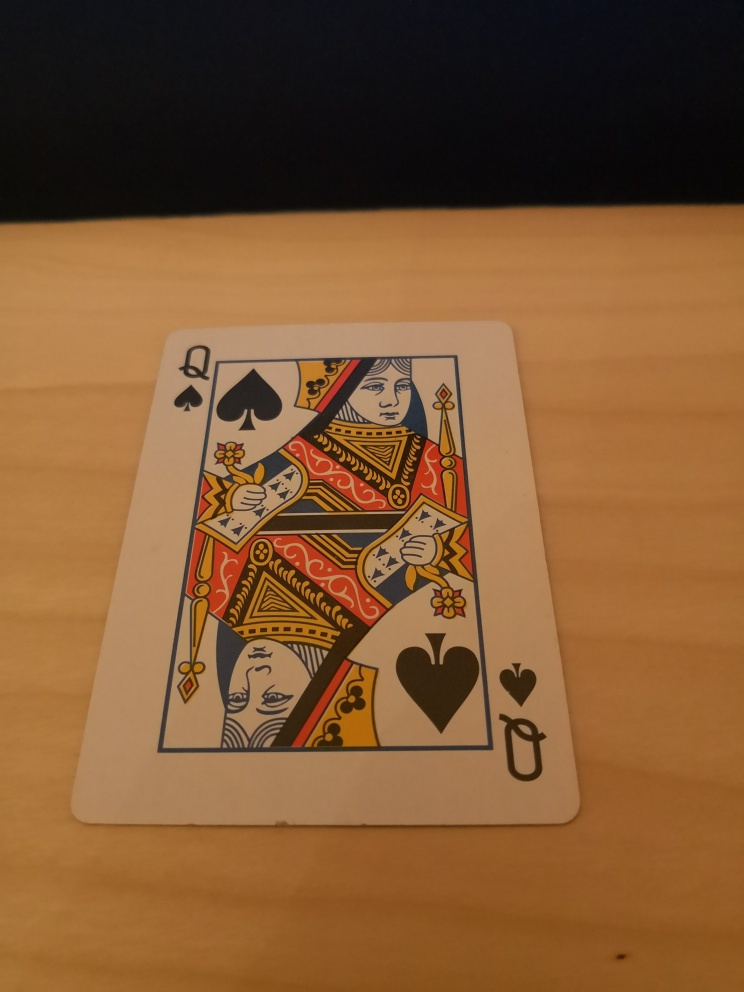queen: (68, 320, 582, 826)
